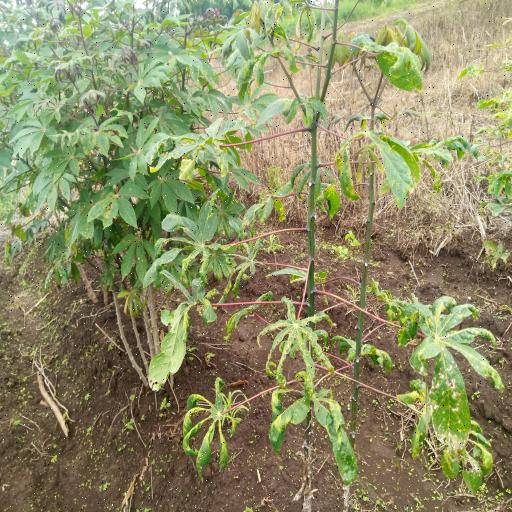Cassava_Mosaic: (414, 297, 510, 391), (272, 388, 356, 482), (337, 131, 417, 213), (148, 200, 224, 278), (183, 384, 244, 475), (264, 304, 330, 378)
